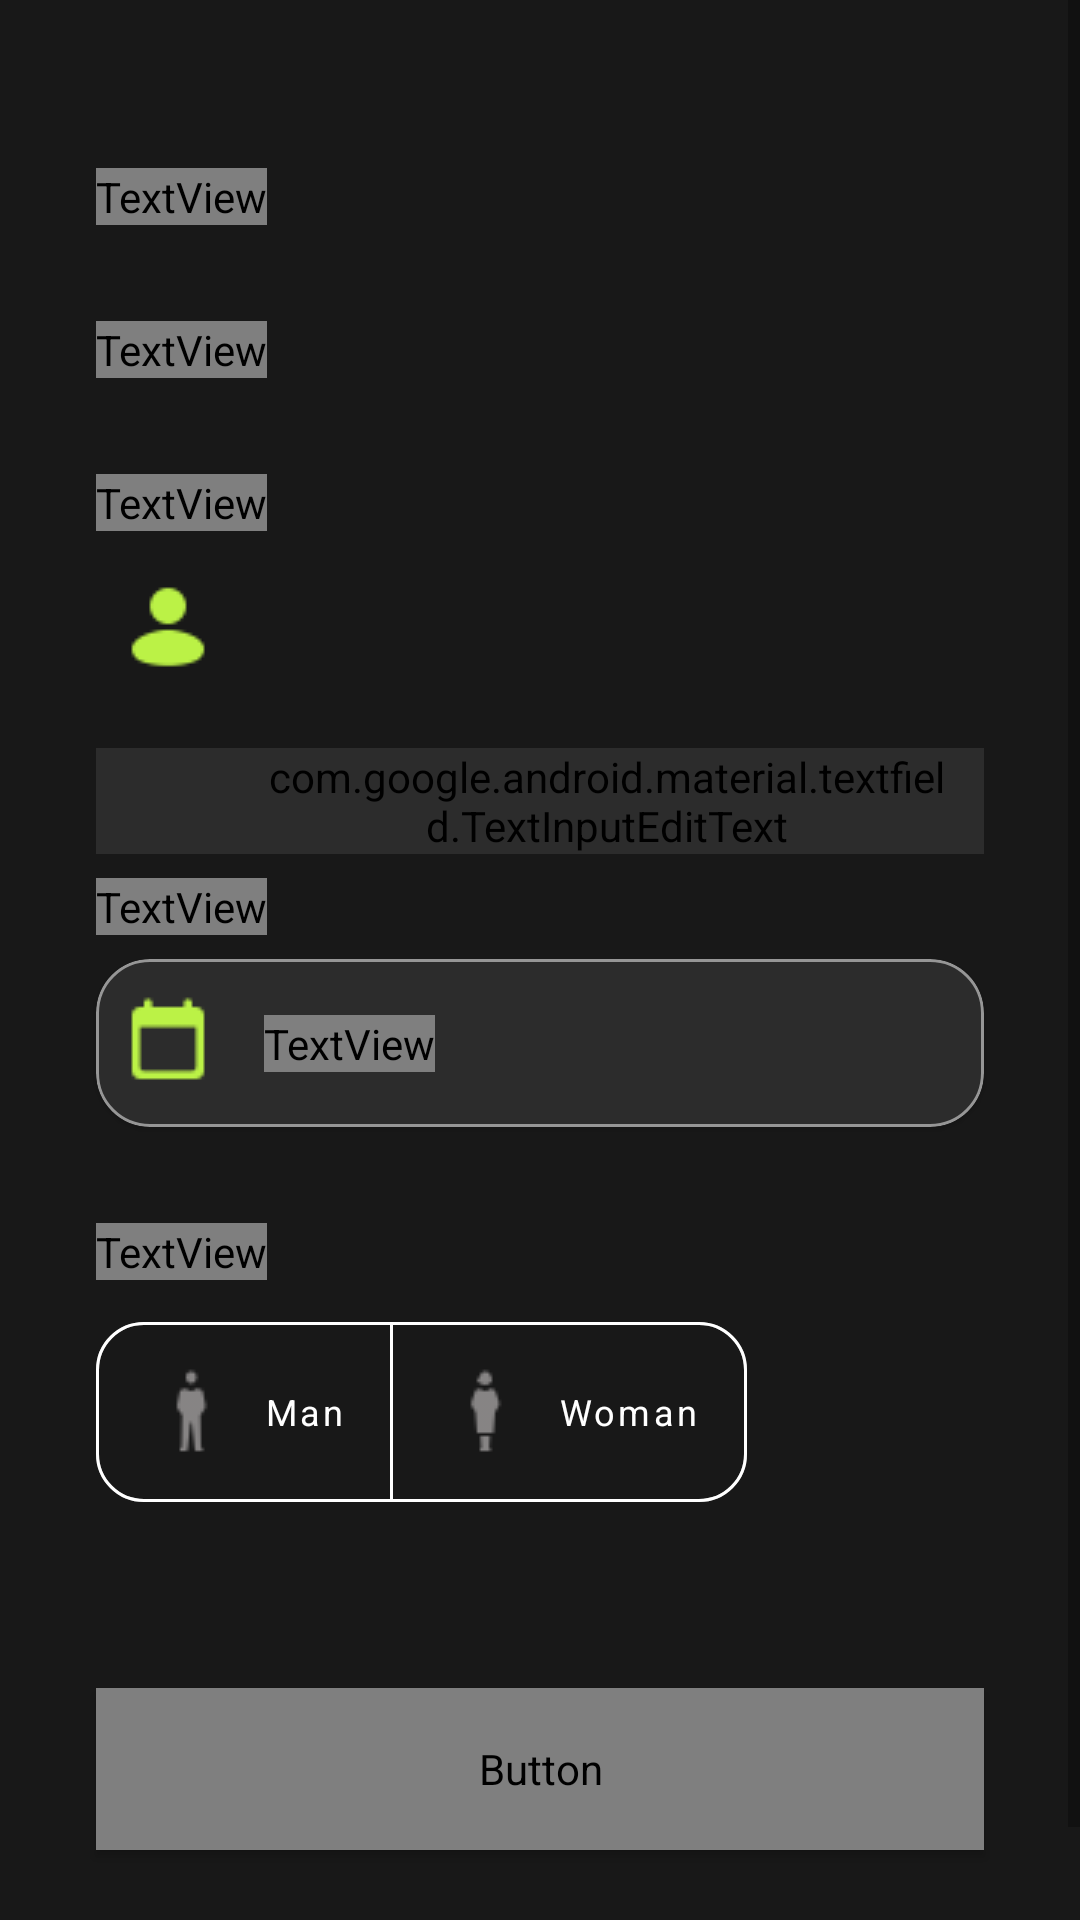

Where to tap for icons on this 1080px x 1920px app screen, as (x,y):
date icon: (168,1038)
